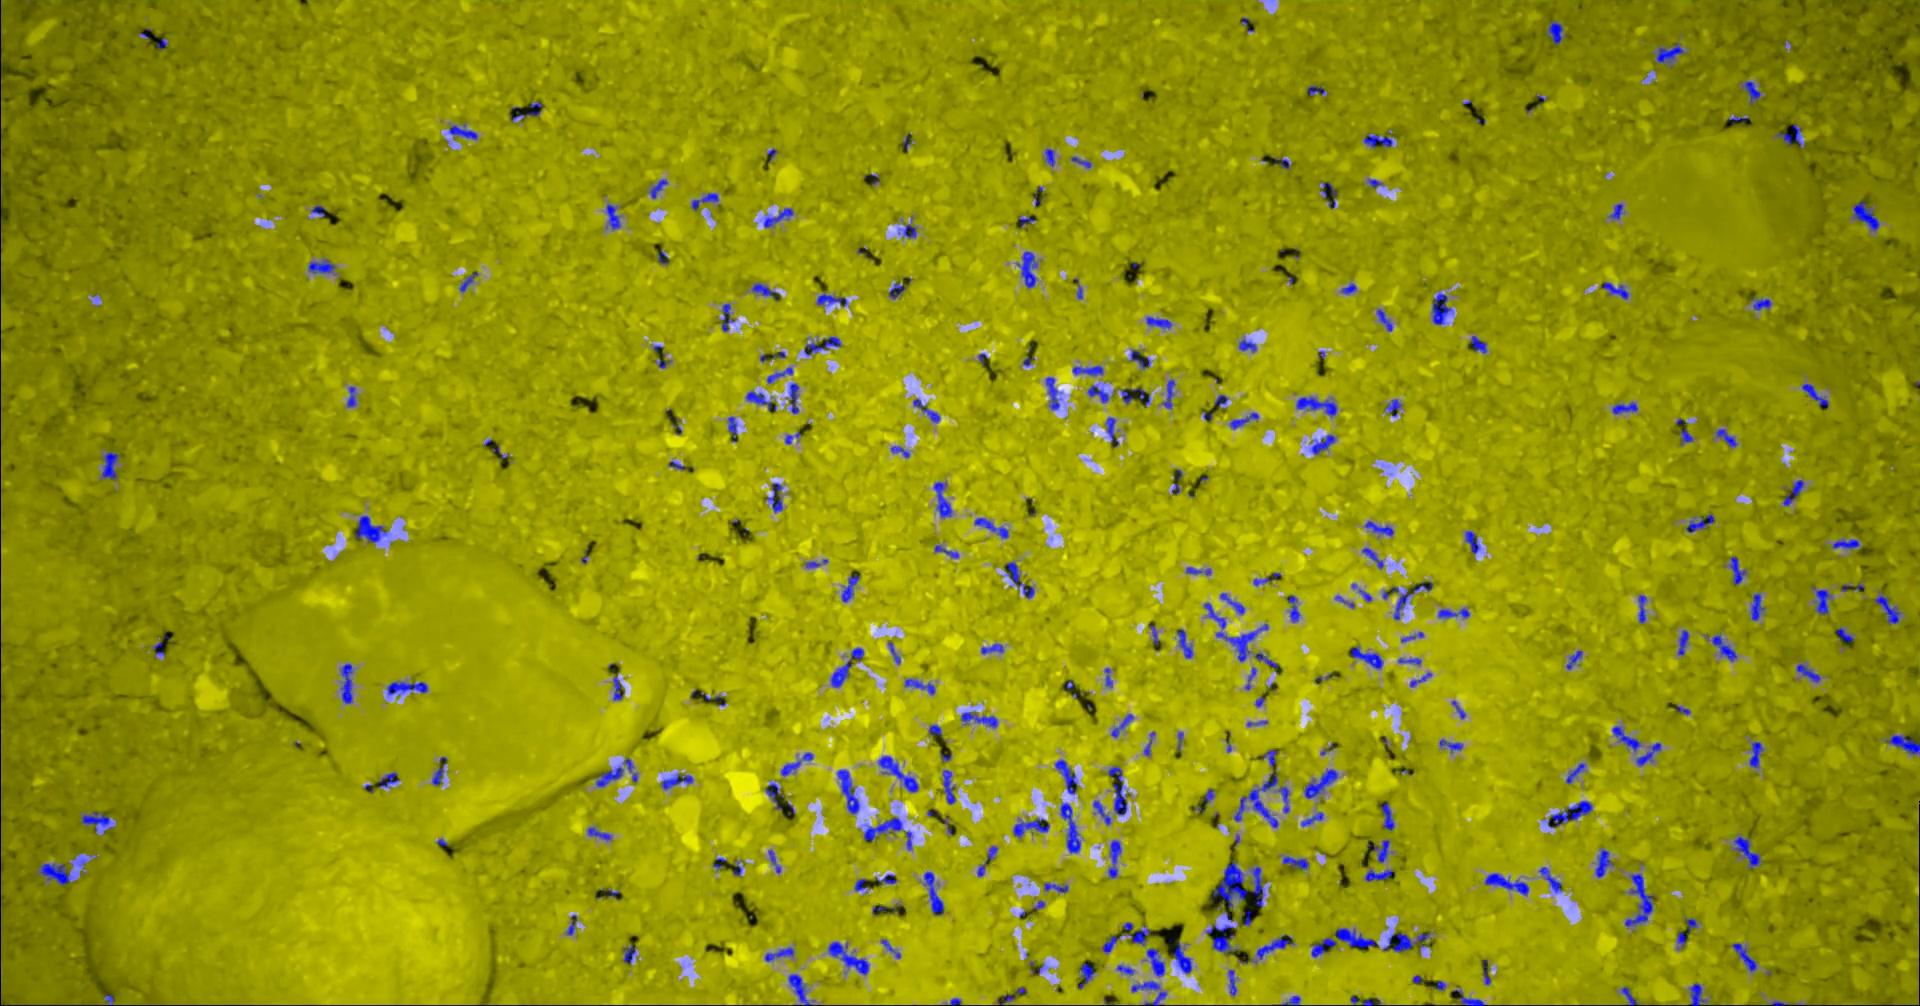ant: (1203, 602, 1267, 661), (1233, 774, 1277, 827), (1310, 927, 1378, 956), (1210, 860, 1247, 907), (1624, 873, 1653, 926), (1393, 580, 1432, 619), (877, 754, 918, 791), (827, 941, 869, 974), (830, 647, 863, 687), (1547, 800, 1592, 827), (1003, 561, 1032, 598), (1059, 801, 1079, 854), (596, 758, 632, 786), (836, 768, 858, 813), (1206, 923, 1238, 955), (1484, 873, 1528, 895), (1256, 934, 1294, 959), (1304, 768, 1337, 798), (1107, 765, 1126, 814), (863, 815, 902, 840), (1382, 932, 1429, 951), (1851, 199, 1879, 231), (923, 871, 943, 915), (356, 514, 386, 542), (1131, 981, 1166, 1005), (1733, 836, 1759, 868), (1297, 396, 1336, 417), (1054, 760, 1077, 794), (1874, 591, 1898, 622), (80, 810, 113, 833), (1611, 725, 1641, 751), (974, 517, 1008, 539), (1350, 647, 1382, 669), (780, 752, 811, 775), (38, 862, 70, 885), (1016, 251, 1036, 287), (1731, 942, 1756, 970), (1012, 818, 1049, 837), (1884, 734, 1919, 754), (789, 973, 810, 1005), (1710, 634, 1736, 661), (1656, 42, 1684, 66), (1777, 123, 1804, 147), (1123, 921, 1150, 945), (745, 390, 776, 412), (804, 337, 841, 354), (1431, 292, 1451, 324), (977, 845, 997, 876), (912, 398, 938, 422), (1801, 384, 1829, 406), (933, 481, 951, 517), (1173, 939, 1191, 973), (763, 207, 792, 227), (510, 102, 541, 121), (1538, 866, 1561, 892), (1782, 479, 1803, 506), (386, 681, 427, 695), (960, 711, 997, 727), (1685, 513, 1714, 532), (1636, 742, 1660, 765), (1219, 592, 1244, 614), (1121, 387, 1149, 406), (1145, 948, 1164, 976), (1366, 840, 1389, 862), (1111, 713, 1133, 737), (1045, 376, 1060, 409), (1176, 627, 1192, 658), (1451, 989, 1484, 1005), (102, 451, 119, 479), (1812, 586, 1830, 614), (1595, 848, 1613, 876), (764, 782, 783, 808), (1107, 840, 1120, 878), (1363, 131, 1392, 147), (1229, 412, 1258, 428), (766, 483, 782, 512), (691, 192, 717, 210), (750, 282, 777, 300), (1601, 281, 1628, 298), (841, 574, 858, 601), (1077, 962, 1095, 988), (1545, 22, 1566, 44), (1255, 652, 1277, 672), (904, 678, 935, 694), (662, 774, 692, 789), (1730, 556, 1746, 584), (1310, 434, 1335, 453), (1796, 663, 1820, 682), (1319, 182, 1337, 207), (942, 768, 955, 804), (340, 663, 352, 702), (1252, 866, 1263, 906), (1364, 520, 1393, 535), (430, 756, 446, 785), (766, 367, 792, 384), (1361, 547, 1383, 568), (1092, 800, 1110, 824), (764, 946, 792, 962), (1564, 762, 1585, 782), (1741, 81, 1760, 103), (458, 271, 477, 292), (448, 124, 477, 138), (307, 259, 335, 273), (1130, 349, 1150, 368), (1105, 417, 1117, 447), (1716, 428, 1737, 446), (1689, 982, 1705, 1005), (1750, 593, 1764, 620), (1749, 741, 1763, 767), (1162, 379, 1175, 408), (881, 939, 900, 958), (1620, 986, 1639, 1005), (1087, 385, 1109, 401), (606, 203, 620, 229), (1288, 594, 1300, 622), (1382, 801, 1394, 829), (1283, 855, 1308, 869), (817, 293, 847, 305), (1377, 309, 1392, 332), (1464, 530, 1479, 553), (649, 179, 667, 198), (1365, 869, 1392, 882), (1102, 934, 1121, 951), (1302, 810, 1323, 826), (721, 304, 733, 332), (935, 544, 957, 558), (1566, 650, 1582, 669), (1072, 365, 1102, 375), (378, 772, 399, 788), (872, 904, 902, 915), (1145, 316, 1171, 328), (1611, 401, 1637, 413), (1439, 739, 1462, 752), (1277, 786, 1289, 812), (587, 827, 610, 840), (1437, 608, 1469, 617), (612, 676, 623, 700), (1750, 297, 1771, 310), (888, 282, 904, 298), (1677, 629, 1688, 655), (789, 384, 797, 413), (1470, 335, 1486, 352), (1262, 749, 1277, 766), (898, 224, 916, 238), (1385, 399, 1399, 417), (1831, 539, 1859, 547), (1637, 594, 1646, 622), (1836, 627, 1854, 641), (1171, 469, 1181, 493), (1043, 882, 1067, 892), (890, 445, 909, 457), (980, 643, 1003, 653), (1238, 339, 1256, 352), (1227, 969, 1236, 995), (1305, 85, 1327, 95), (623, 944, 635, 963), (728, 417, 737, 441), (1481, 960, 1490, 984), (1679, 428, 1691, 445), (345, 386, 356, 406), (566, 915, 577, 935), (1185, 567, 1211, 574), (1609, 203, 1622, 218), (311, 205, 326, 217), (1684, 917, 1697, 932), (1044, 149, 1054, 166), (1203, 788, 1213, 805), (876, 874, 897, 883), (1676, 931, 1686, 949), (1283, 995, 1300, 1005), (1272, 158, 1289, 168), (1340, 283, 1356, 293), (152, 641, 164, 655), (657, 249, 667, 264), (928, 724, 941, 735)
